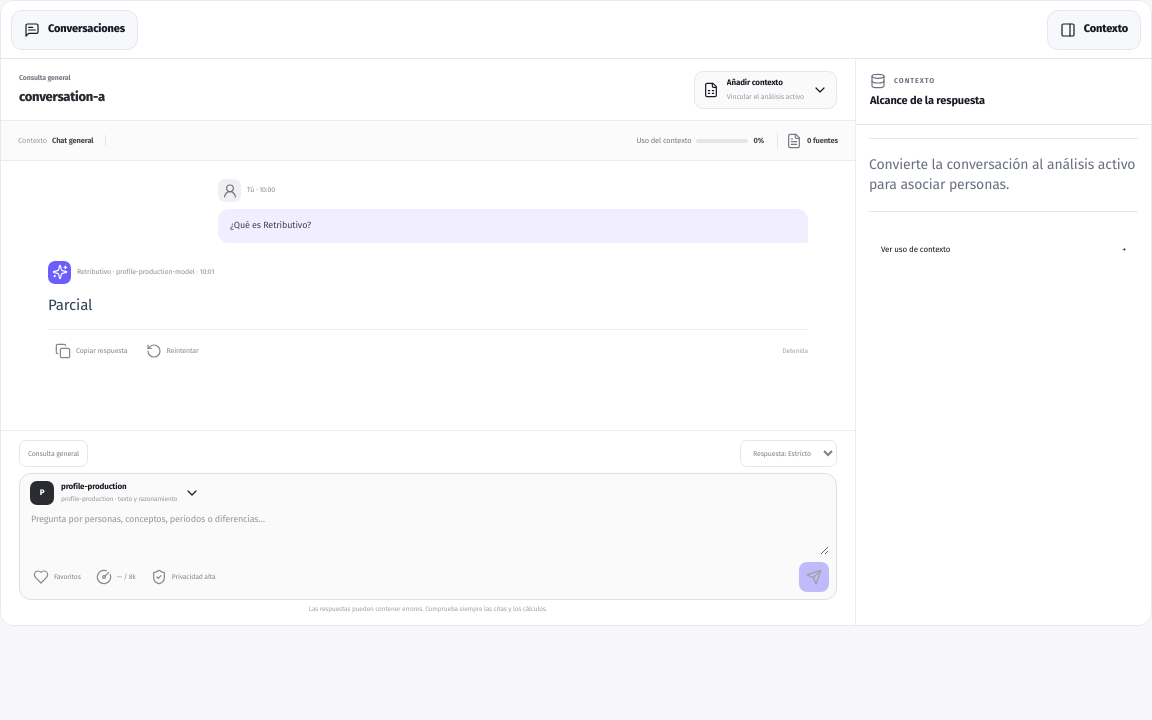
Test: Phase 5 third-review regressions › retries a non-empty stopped production response as a continuation
Click the button with aria-label "Reintentar respuesta": (172, 351) x1=138 y1=337 x2=206 y2=365
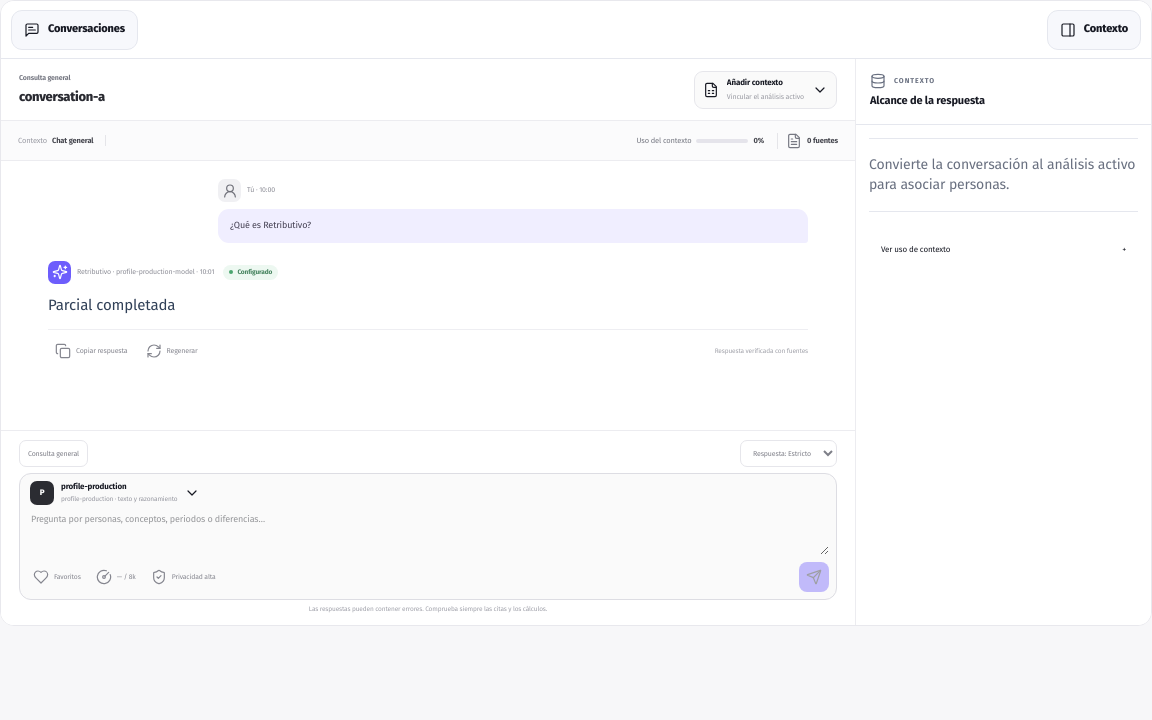
Expected: the text "Parcial completada" is shown, x1=48 y1=296 x2=175 y2=314
